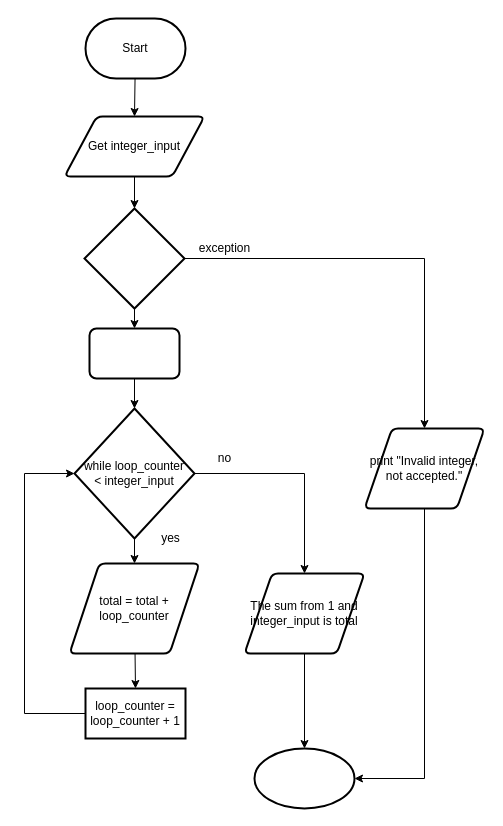
The diagram is 503 pixels wide and 826 high, and some of its shapes have lost their labels. The centre of each missing label's shape, as x and y in pixels:
"convert string to int" goes at pixel 134 353.
"stop" goes at pixel 304 778.
"Try" goes at pixel 134 258.
